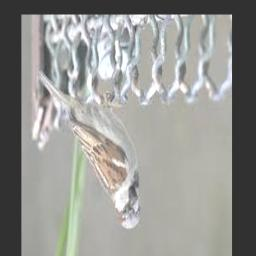Sparrow: (37, 66, 142, 230)
